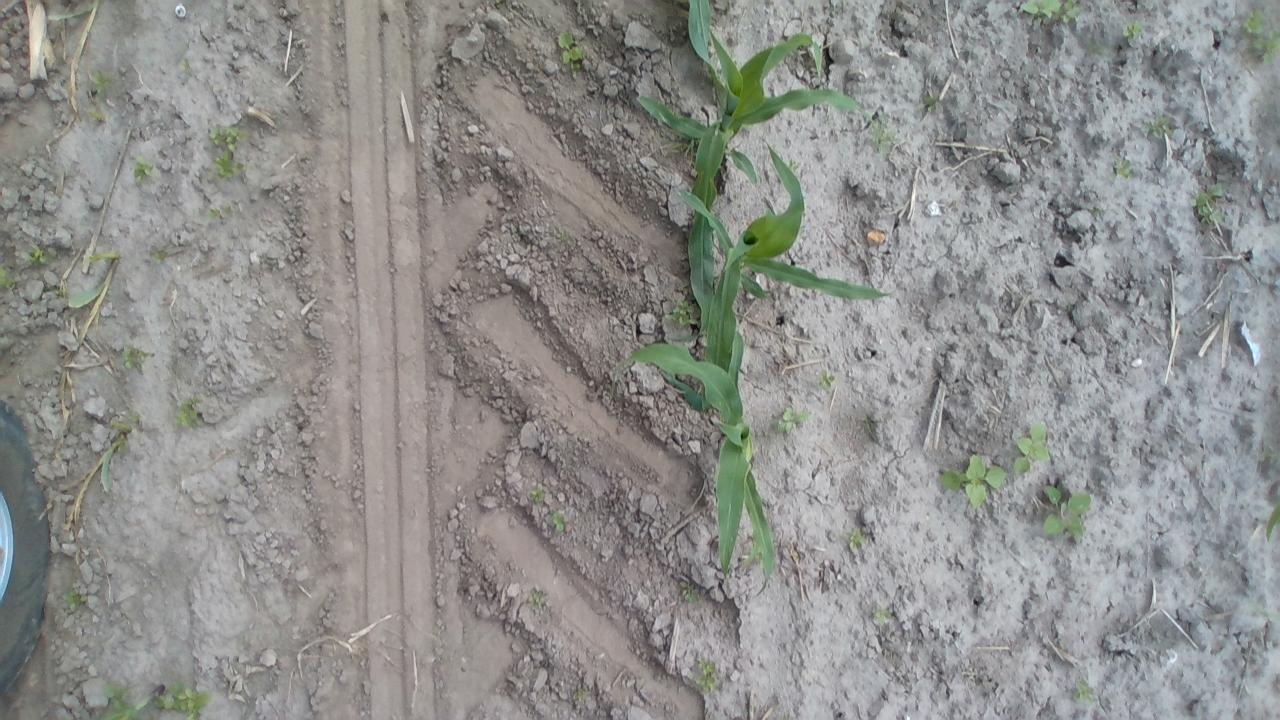Maize: (660, 137, 894, 425), (636, 0, 883, 187), (622, 328, 776, 596), (67, 250, 118, 308), (100, 420, 134, 492), (100, 683, 166, 720), (44, 0, 99, 27), (1265, 502, 1280, 541)
Weeds: (936, 454, 1004, 510), (1042, 482, 1092, 537), (1013, 416, 1054, 474), (155, 684, 208, 716), (1020, 1, 1080, 23), (174, 395, 206, 428), (1196, 183, 1222, 219), (556, 31, 584, 64), (208, 124, 242, 150), (776, 407, 810, 430), (122, 346, 148, 375), (669, 300, 696, 326), (696, 658, 716, 692), (213, 150, 237, 178), (872, 121, 894, 151), (1242, 10, 1268, 34), (104, 684, 131, 707), (1254, 30, 1280, 52), (1075, 679, 1097, 702), (816, 368, 836, 393), (22, 244, 46, 262), (678, 581, 701, 599), (90, 71, 108, 93), (1122, 21, 1142, 40), (552, 510, 570, 530), (134, 158, 149, 182), (1148, 117, 1170, 133), (526, 589, 546, 606), (531, 485, 547, 504), (572, 682, 586, 703), (67, 591, 84, 606), (0, 268, 14, 286), (85, 110, 105, 122), (1118, 159, 1132, 176), (152, 246, 166, 262), (873, 604, 886, 620), (207, 206, 224, 218), (850, 528, 860, 548), (923, 93, 937, 105), (788, 160, 802, 168), (180, 63, 190, 74), (557, 230, 568, 240), (56, 288, 66, 294)
